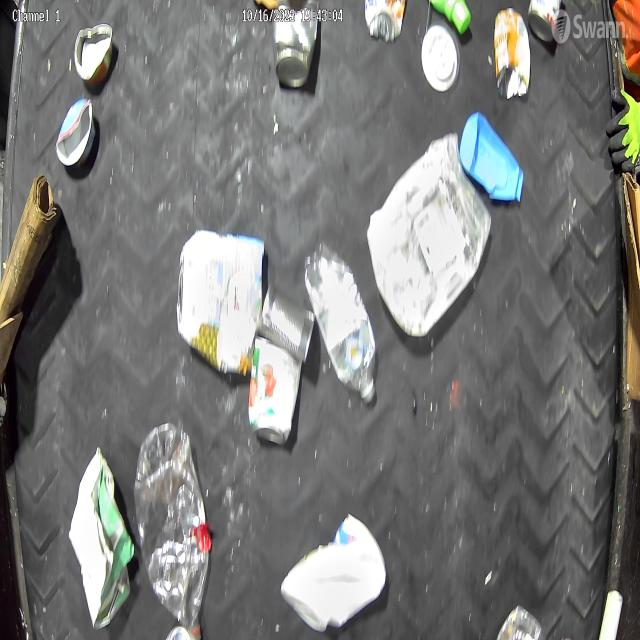can: (248, 331, 304, 449), (260, 285, 316, 363), (273, 0, 319, 89), (493, 7, 530, 100), (54, 98, 99, 174), (74, 21, 115, 93), (364, 0, 406, 42), (526, 0, 562, 45)
plastic_bottle: (134, 420, 210, 640), (305, 244, 377, 406)
